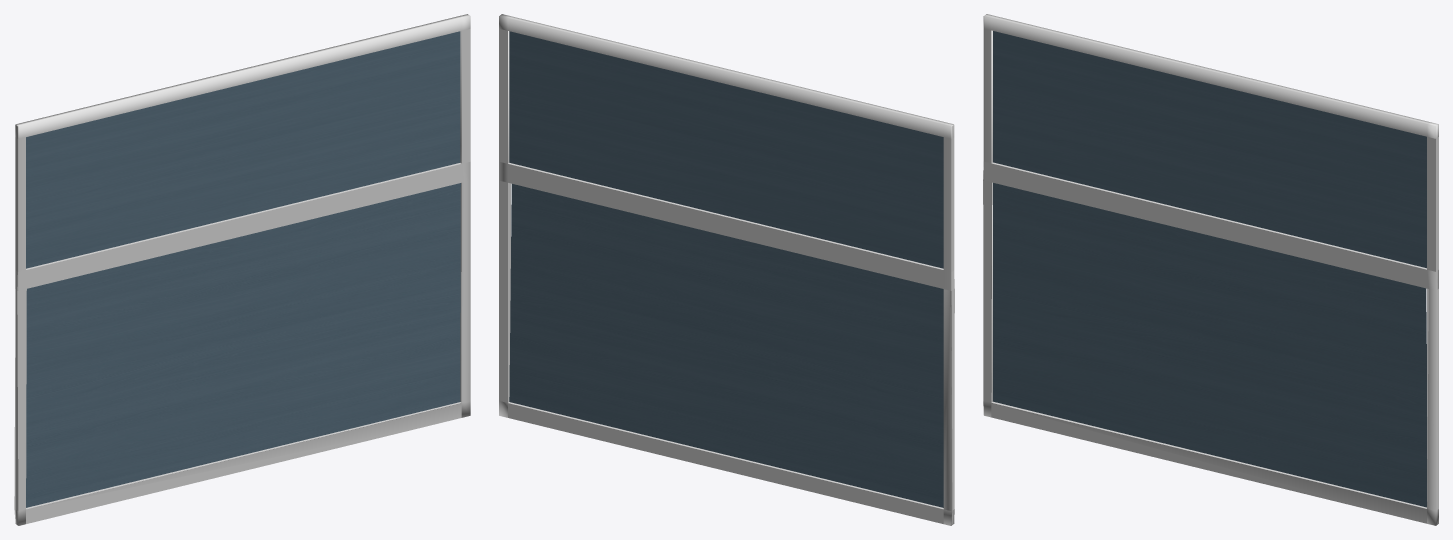
File: table-wall_1.fbx
3 views of the same model, side by side, from view 1: azimuth 30°, elevation 25°; view 2: azimuth 150°, elevation 25°; view 3: azimuth 330°, elevation 25° (orthographic).
Visible parts, largest first — view 1: Leg.001; view 2: Leg.001; view 3: Leg.001.
Boxes of the visible parts, x1,y1,x2,y2 form: Leg.001: (14,14,470,525); Leg.001: (499,14,954,525); Leg.001: (983,14,1438,525).
Bounding box in the file's own units: 2.31 × 1.94 × 0.0276.
